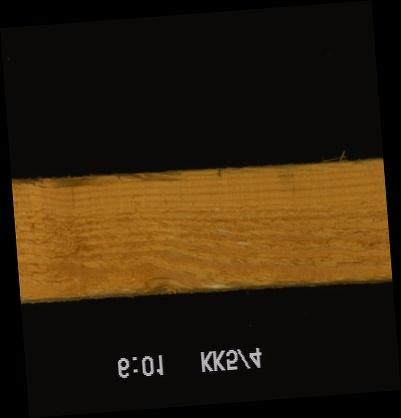edge_knot: (130, 272, 191, 294)
wave: (32, 174, 184, 199), (223, 161, 382, 176)
